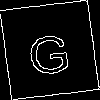G: (24, 25, 73, 76)
